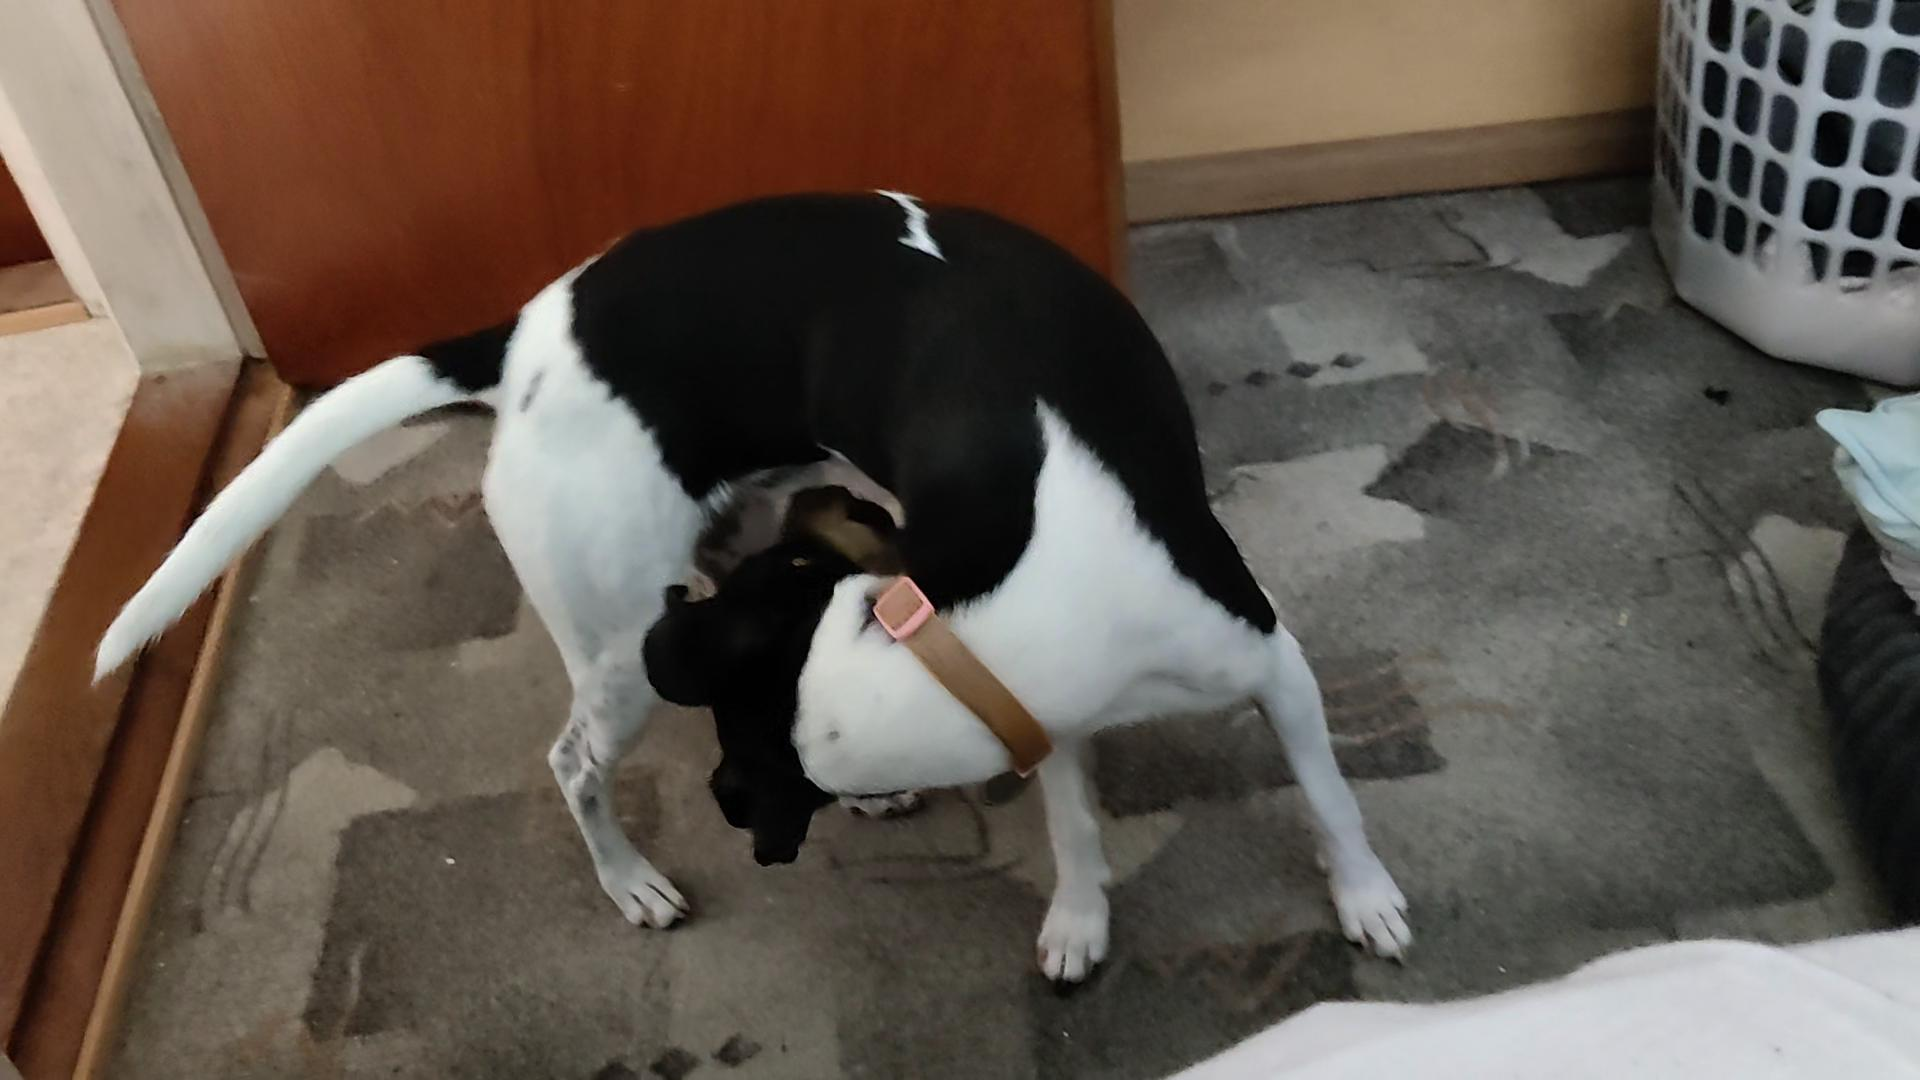Dog: (84, 164, 1453, 998)
